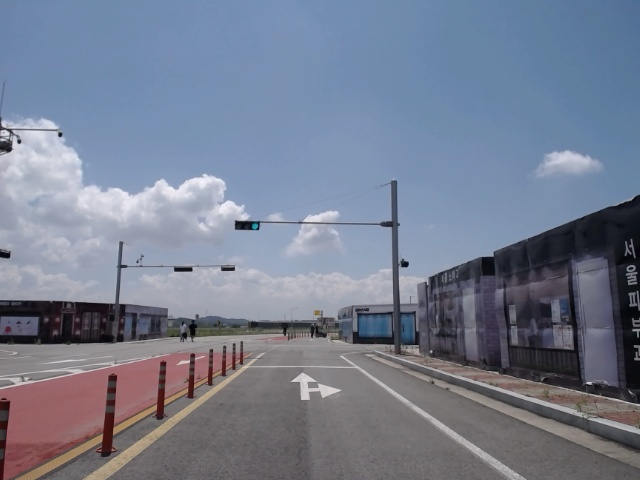green_3: (236, 221, 260, 231)
